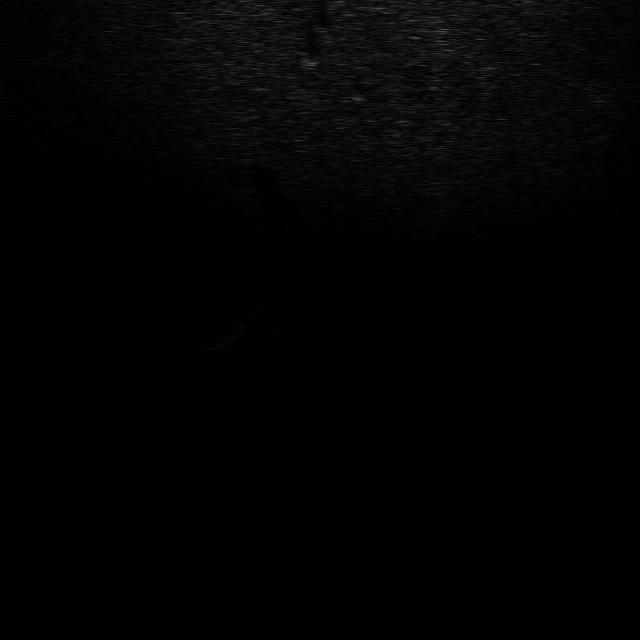human body: (203, 304, 255, 352)
